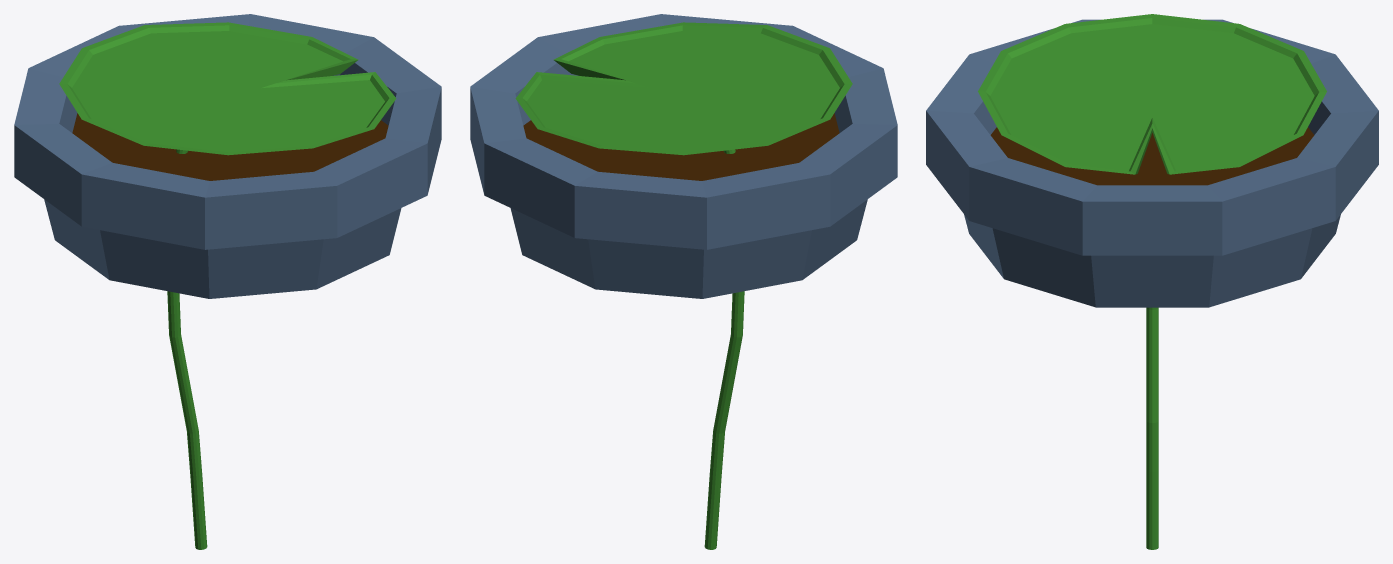
The model's file is garden_plant_lotusleap.fbx.
3 views of the same model, side by side, from view 1: azimuth 30°, elevation 25°; view 2: azimuth 150°, elevation 25°; view 3: azimuth 270°, elevation 25° (orthographic). The views are drawn at different scales.
Visible parts, largest first — view 1: pot, leaf, dirt; view 2: pot, leaf, dirt; view 3: pot, leaf, dirt.
Part boxes in pixels (x1,y1,x2,y2): pot: (14,14,441,298); leaf: (59,22,396,549); dirt: (72,113,388,180); pot: (470,14,897,298); leaf: (515,22,852,549); dirt: (523,113,839,180); pot: (926,19,1378,307); leaf: (978,14,1326,549); dirt: (990,127,1314,185).
Size of the model in its own units: 459 by 558 by 483.
